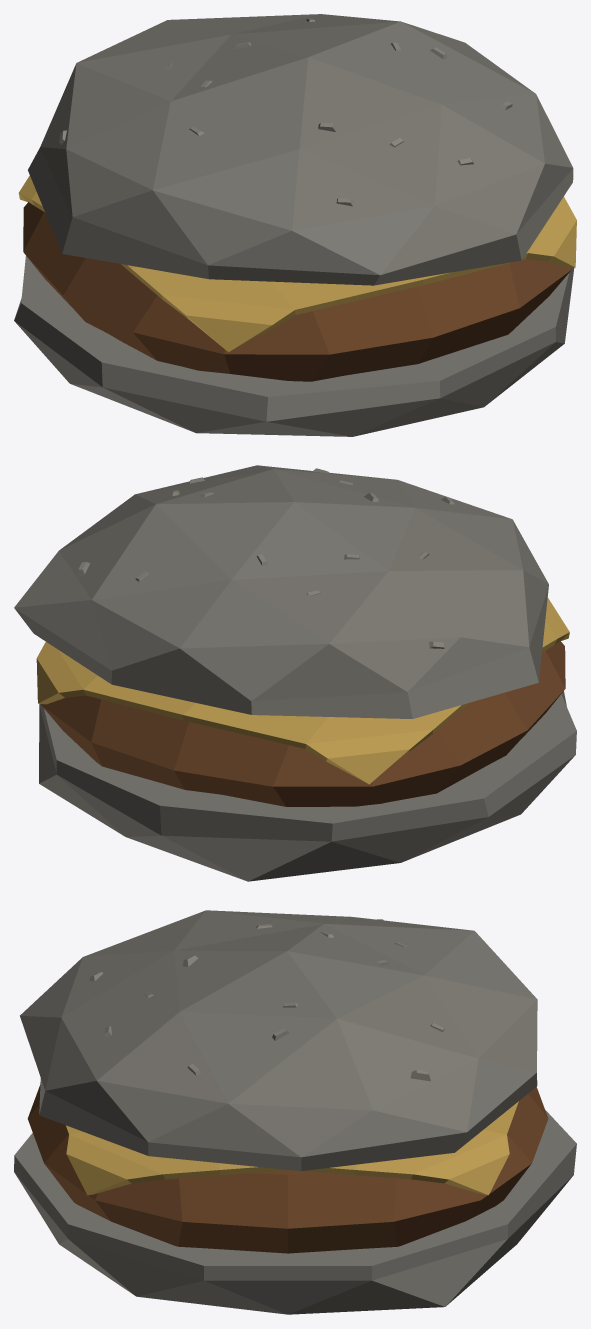
File: cc0-cheeseburger-lod0.glb
3 views of the same model, one above another, from view 1: azimuth 30°, elevation 25°; view 2: azimuth 150°, elevation 25°; view 3: azimuth 270°, elevation 25° (orthographic). The views are drawn at different scales.
Visible parts, largest first — view 1: part_0; view 2: part_0; view 3: part_0.
Boxes of the visible parts, x1,y1,x2,y2 form: part_0: (14,14,576,436); part_0: (14,465,576,881); part_0: (14,910,576,1314).
Size of the model in its own units: 1.46 by 0.9382 by 1.54.
